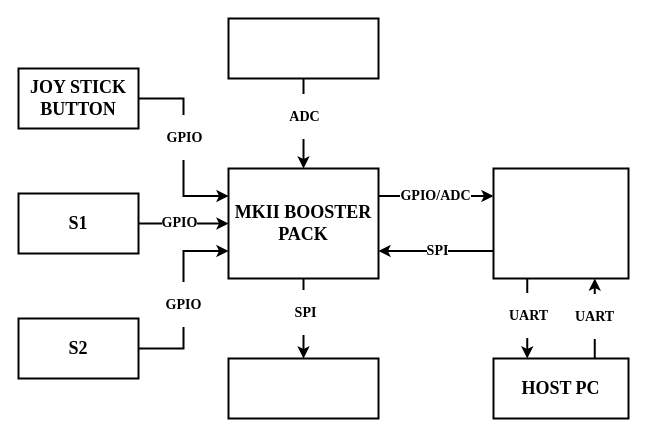
Image size: 646x436. Some labels were removed from this diagram. The centre of each missing label's shape, as x and y in pixels:
JOY STICK: (x=303, y=48)
LCD DISPLAY: (x=303, y=388)
MSP432 LAUNCHPAD: (x=560, y=223)
